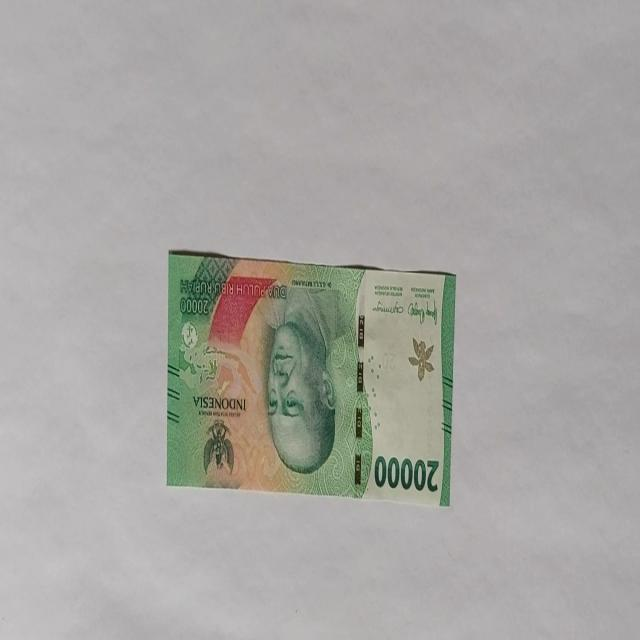dua puluh ribu rupiah: (166, 248, 456, 506), (261, 284, 339, 476)
